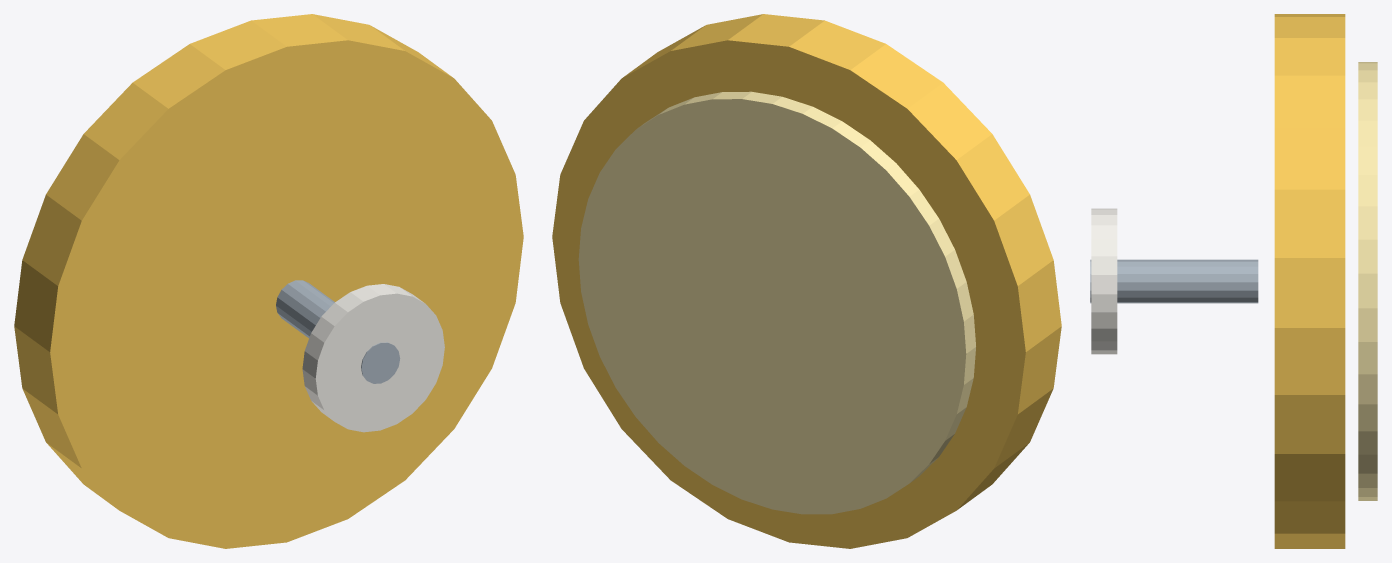
Rendered from MotionReady_Room_Light.obj.
3 views of the same model, side by side, from view 1: azimuth 30°, elevation 25°; view 2: azimuth 150°, elevation 25°; view 3: azimuth 270°, elevation 25° (orthographic).
Parts seen in each view (by area): view 1: Ceiling_light, Light_canopy, Light_drop_rod; view 2: Light_diffuser, Ceiling_light; view 3: Ceiling_light, Light_diffuser, Light_drop_rod, Light_canopy.
Part boxes in pixels (x1,y1,x2,y2): Ceiling_light: (14,14,523,548); Light_canopy: (302,284,444,432); Light_drop_rod: (276,280,400,383); Light_diffuser: (578,91,975,514); Ceiling_light: (552,14,1061,548); Ceiling_light: (1274,14,1345,548); Light_diffuser: (1358,62,1377,500); Light_drop_rod: (1090,259,1258,303); Light_canopy: (1091,208,1117,354).
Size of the model in its own units: 495 by 495 by 265.
